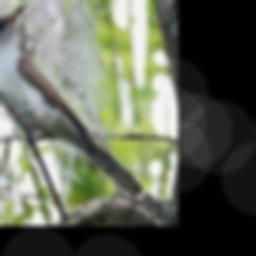Cuckoo: (0, 6, 143, 196)
